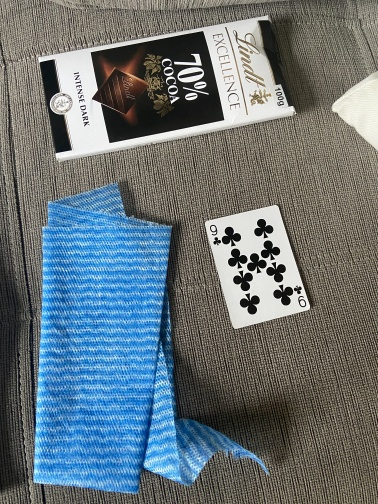nine: (203, 204, 311, 332)
